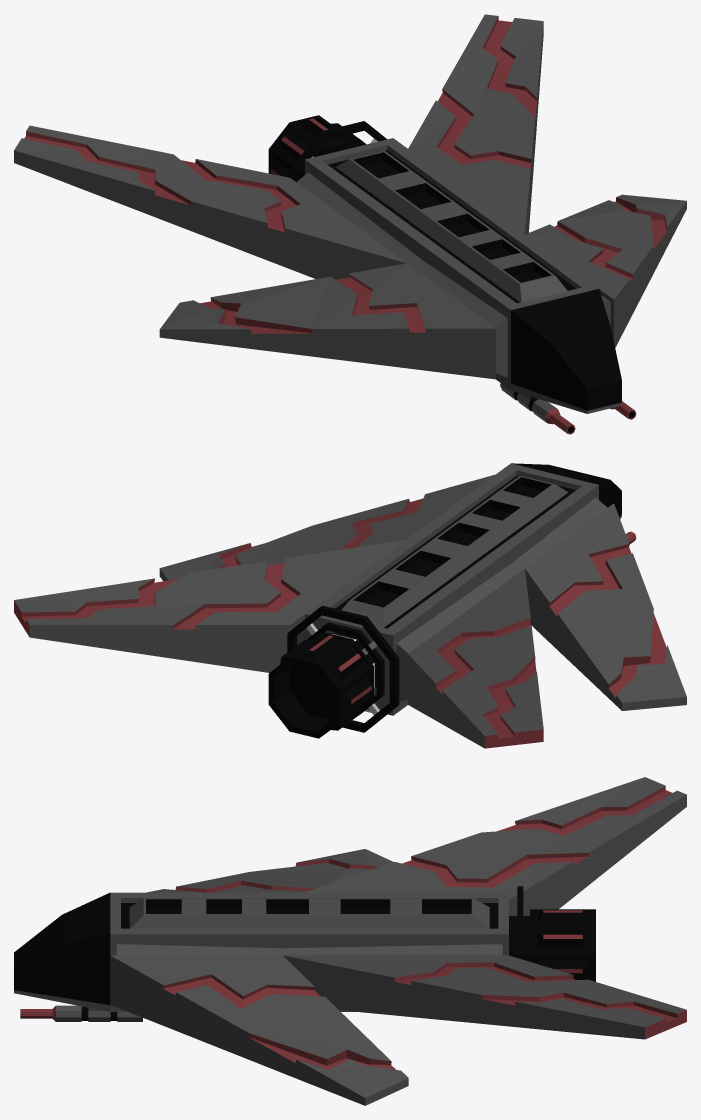
File: Spaceship7_2.fbx
3 views of the same model, one above another, from view 1: azimuth 30°, elevation 25°; view 2: azimuth 150°, elevation 25°; view 3: azimuth 270°, elevation 25° (orthographic). The views are drawn at different scales.
Visible parts, largest first — view 1: Spaceship7_2; view 2: Spaceship7_2; view 3: Spaceship7_2.
Part boxes in pixels (x1,y1,x2,y2): Spaceship7_2: [14, 14, 686, 434]; Spaceship7_2: [14, 463, 686, 748]; Spaceship7_2: [14, 777, 686, 1105].
Size of the model in its own units: 1036 by 213 by 1177.
